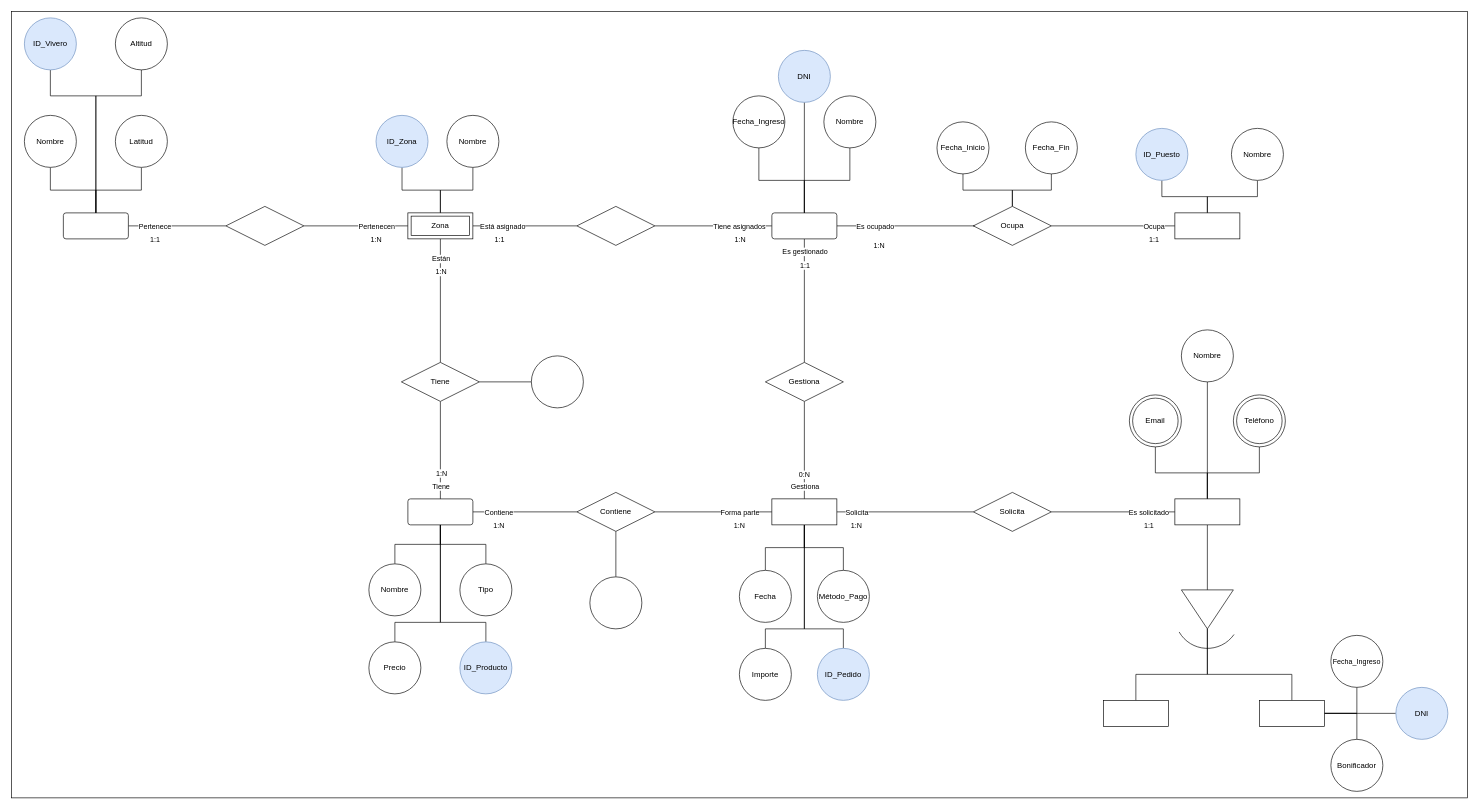
This 1479x809 diagram has some shape labels left out. Each missing label, with the box of its shape:
Asignado: (576, 206, 655, 245)
Cantidad: (589, 576, 642, 629)
Cliente: (1174, 498, 1240, 525)
Cliente_Normal: (1103, 700, 1168, 726)
Cliente_Plus: (1259, 700, 1324, 726)
Empleado: (771, 212, 837, 239)
ID Pertenece: (225, 206, 304, 245)
Pedido: (771, 498, 837, 525)
Producto: (407, 498, 473, 525)
Puesto: (1174, 212, 1240, 239)
Stock: (531, 355, 583, 408)
Vivero: (63, 212, 128, 239)
